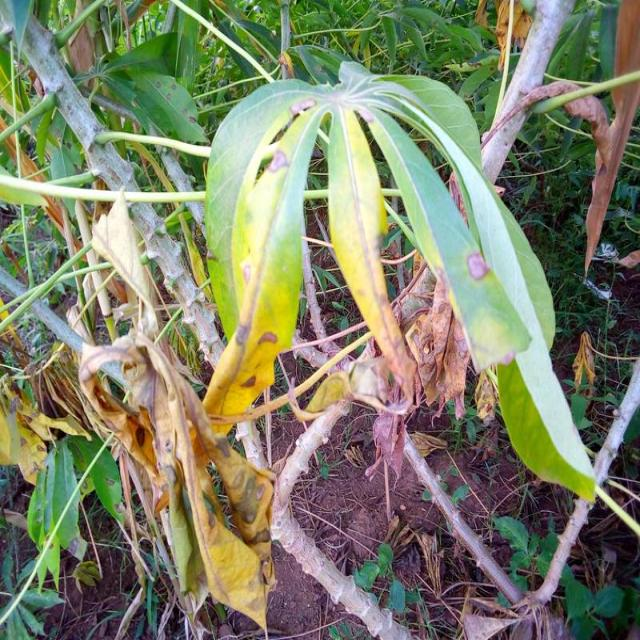cassava leaf: (201, 59, 597, 504)
